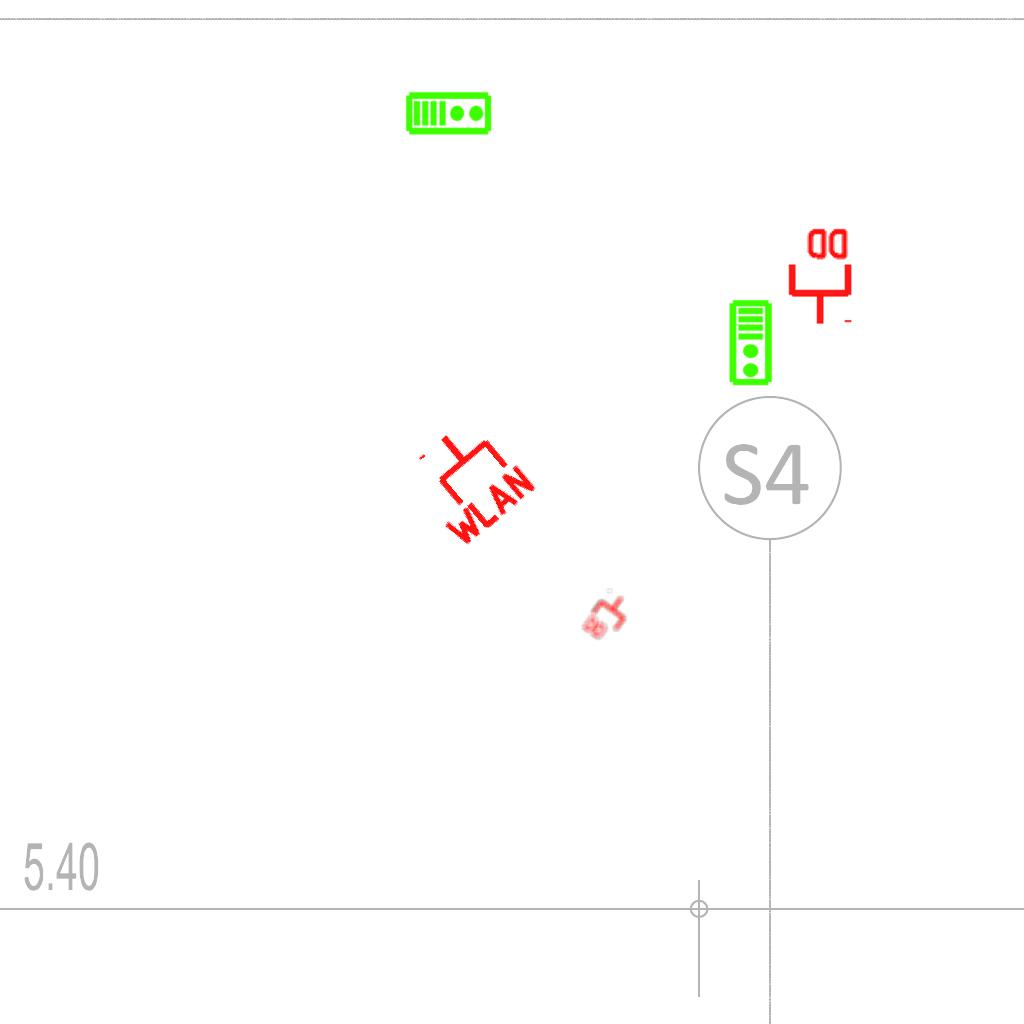Datenanschluss_zweifach: (784, 224, 853, 327), (579, 586, 637, 649)
Gegensprechanlage_mit_Video: (728, 299, 775, 387), (405, 89, 493, 136)
WLAN: (393, 406, 542, 554)
